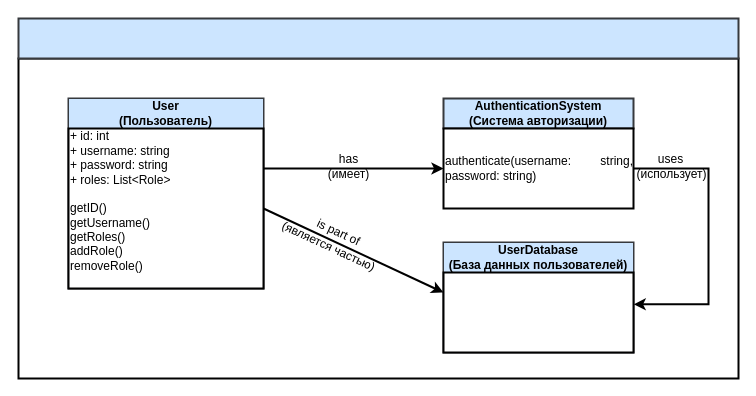
Some shapes in this 756 by 396 pixel diagram are drawn without their labels. Here are the shapes that lost their labels. From the top down, the box of each, then its label:
(17, 17, 739, 59): Class diagram (диаграмма классов)
(442, 271, 634, 353): getUserByUsername(username: string) addUser(user: User) updateUser(user: User)
